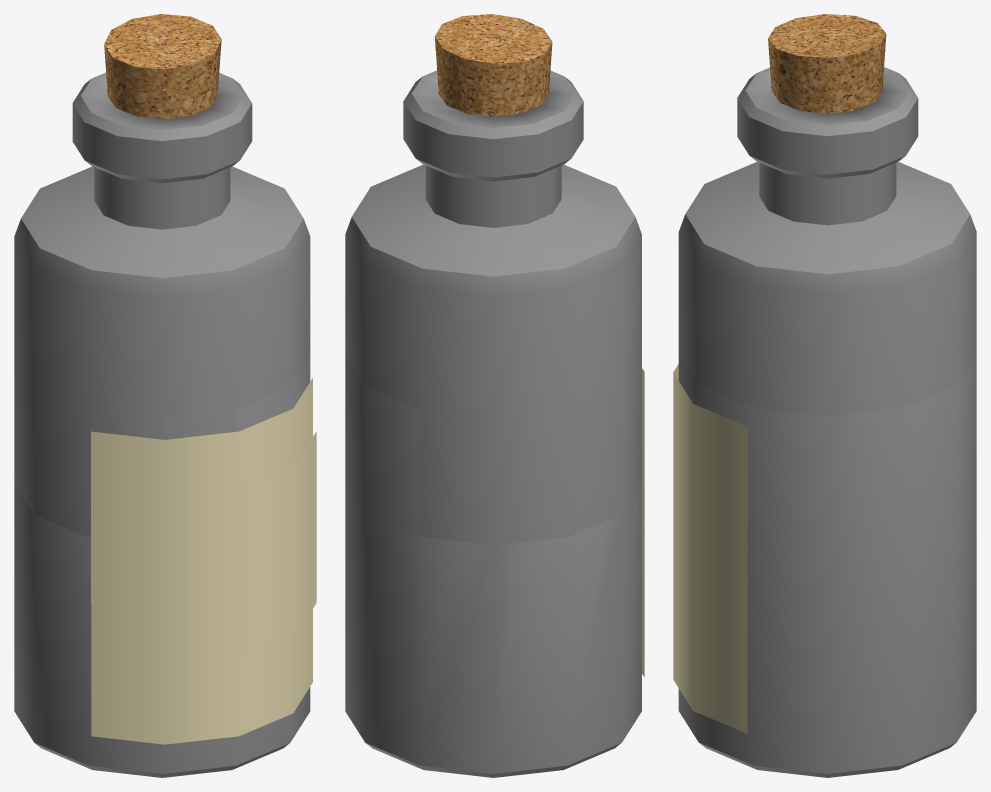
The model's file is bottles.FBX.
3 renders of one model, left to right at view 1: azimuth 30°, elevation 25°; view 2: azimuth 150°, elevation 25°; view 3: azimuth 270°, elevation 25°, orthographic.
Visible parts, largest first — view 1: bottle_tall, label, label002, bottle_small, label001, cork, bottle_regular; view 2: bottle_tall, bottle_small, bottle_regular, cork, label002; view 3: bottle_regular, bottle_tall, label001, cork, label002, label.
Boxes of the visible parts, box(x1,y1,x2,y2) form: bottle_tall: box(14, 72, 310, 773); label: box(91, 378, 312, 611); label002: box(91, 564, 312, 744); bottle_small: box(14, 484, 290, 777); label001: box(240, 431, 316, 657); cork: box(104, 14, 221, 119); bottle_regular: box(162, 357, 310, 775); bottle_tall: box(345, 70, 641, 773); bottle_small: box(385, 483, 641, 777); bottle_regular: box(345, 356, 491, 772); cork: box(434, 14, 552, 116); label002: box(642, 501, 644, 677); bottle_regular: box(678, 354, 976, 777); bottle_tall: box(678, 67, 976, 416); label001: box(673, 429, 747, 656); cork: box(768, 14, 886, 113); label002: box(673, 603, 747, 733); label: box(673, 364, 747, 483).
Bounding box in the file's own units: 10 × 25.39 × 10.19.
